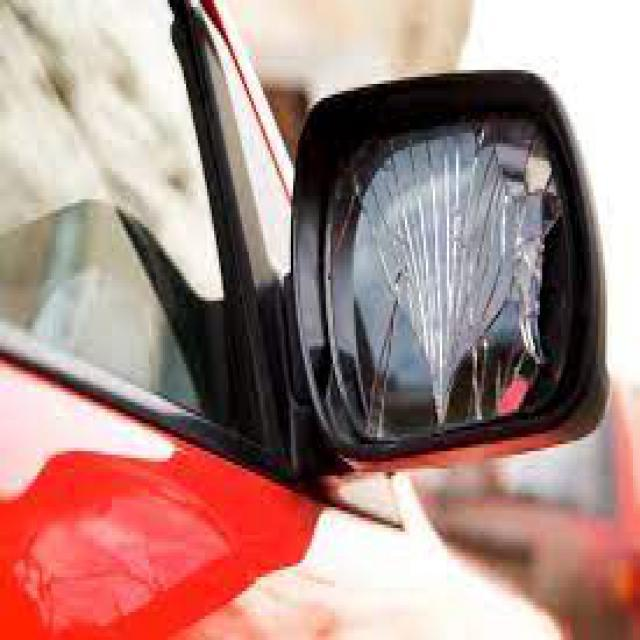Sidemirror-Damage: (275, 77, 610, 454)
